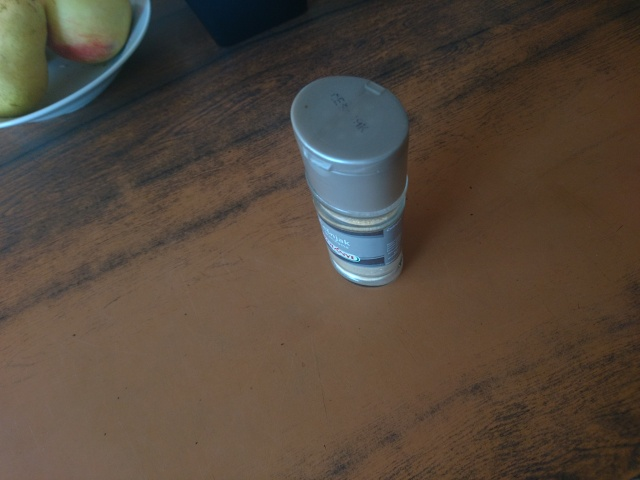Kotanyi Garlic Granules 70g: (287, 73, 412, 290)
